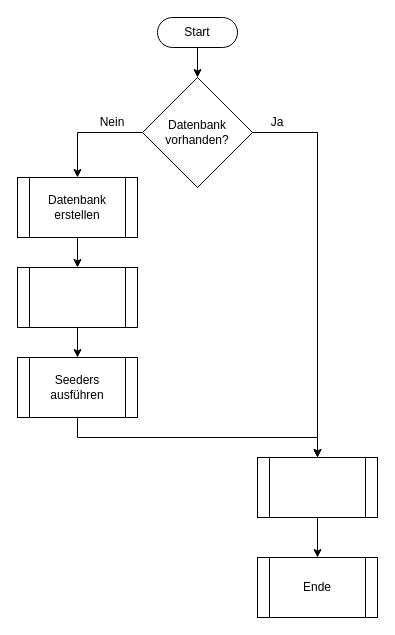
Image size: 395x635. Some labels were removed from this diagram. Each missing label, with the box of its shape:
Migration ausführen: (16, 266, 138, 328)
Server starten: (256, 456, 378, 518)
